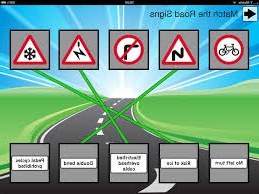Double_bend_right: (161, 34, 196, 65)
